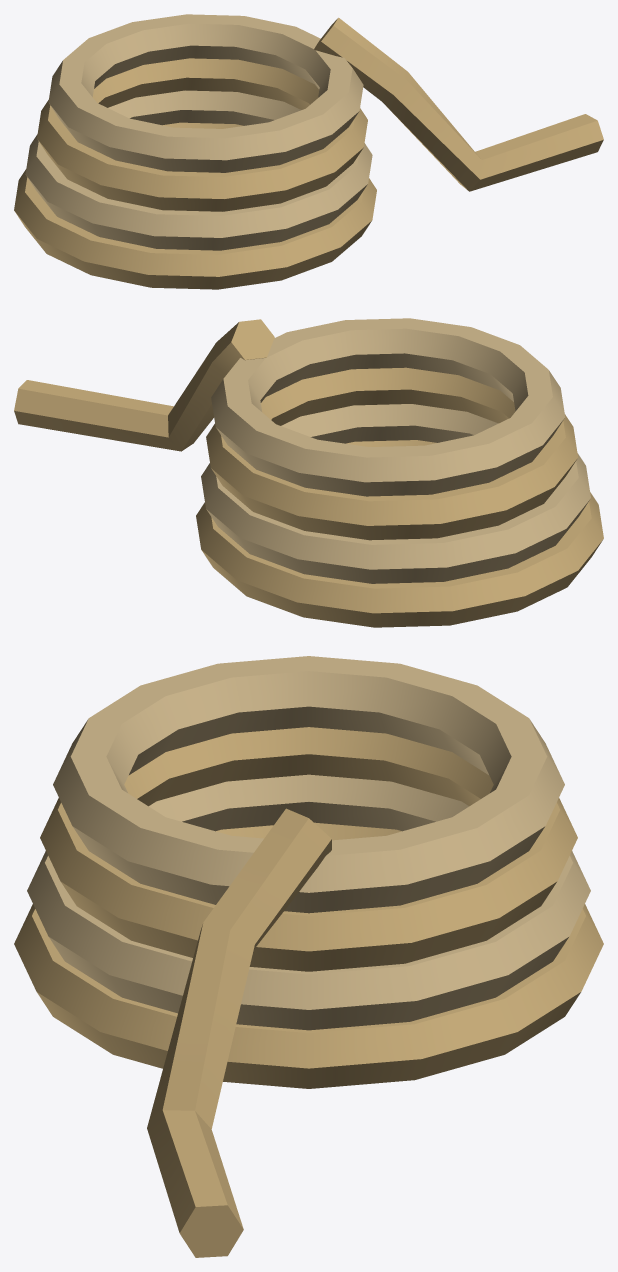
The model's file is SM_Rope_Coil.glb.
3 views of the same model, one above another, from view 1: azimuth 30°, elevation 25°; view 2: azimuth 150°, elevation 25°; view 3: azimuth 270°, elevation 25° (orthographic). The views are drawn at different scales.
Visible parts, largest first — view 1: SM_Rope_Coil; view 2: SM_Rope_Coil; view 3: SM_Rope_Coil.
Boxes of the visible parts, bbox=[...] form: SM_Rope_Coil: bbox=[14, 14, 603, 289]; SM_Rope_Coil: bbox=[14, 318, 603, 627]; SM_Rope_Coil: bbox=[14, 656, 603, 1257].
Size of the model in its own units: 0.6046 by 0.1812 by 0.364.
1 material, 1 textured.
